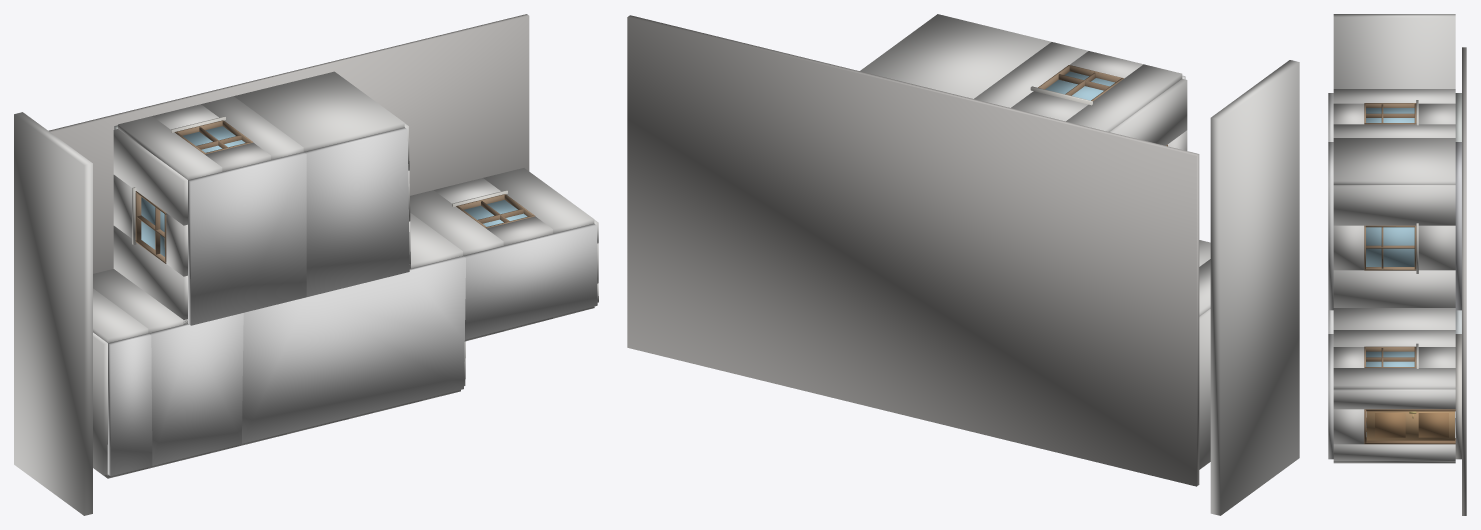
Rendered from blueprint3_scene.glb.
3 renders of one model, left to right at view 1: azimuth 30°, elevation 25°; view 2: azimuth 150°, elevation 25°; view 3: azimuth 270°, elevation 25°, orthographic. The views are drawn at different scales.
Parts seen in each view (by area): view 1: Ceilings, Walls, Plinth, Lintels, WindowGlasses, WindowFrames, WindowMullions, WindowSills; view 2: Plinth, Walls, Lintels, WindowGlasses; view 3: Walls, Lintels, WindowGlasses, DoorLeaves, Floors, Plinth, Ceilings, WindowFrames, WindowMullions, DoorFrames, WindowSills.
Boxes of the visible parts, left/top/right/bottom form: Ceilings: left=107, top=127, right=597, bottom=476; Walls: left=14, top=71, right=598, bottom=515; Plinth: left=48, top=14, right=529, bottom=273; Lintels: left=166, top=142, right=598, bottom=461; WindowGlasses: left=141, top=126, right=527, bottom=256; WindowFrames: left=135, top=120, right=534, bottom=263; WindowMullions: left=137, top=127, right=523, bottom=254; WindowSills: left=132, top=116, right=507, bottom=245; Plinth: left=627, top=15, right=1199, bottom=486; Walls: left=860, top=14, right=1299, bottom=515; Lintels: left=1070, top=51, right=1187, bottom=150; WindowGlasses: left=1045, top=71, right=1114, bottom=100; Walls: left=1333, top=14, right=1455, bottom=463; Lintels: left=1333, top=103, right=1364, bottom=444; WindowGlasses: left=1366, top=108, right=1414, bottom=436; DoorLeaves: left=1366, top=411, right=1454, bottom=440; Floors: left=1455, top=93, right=1461, bottom=459; Plinth: left=1462, top=47, right=1466, bottom=515; Ceilings: left=1328, top=93, right=1333, bottom=459; WindowFrames: left=1364, top=103, right=1416, bottom=437; WindowMullions: left=1366, top=104, right=1414, bottom=431; DoorFrames: left=1364, top=409, right=1455, bottom=444; WindowSills: left=1416, top=100, right=1418, bottom=368.
Bounding box in the file's own units: 11.98 × 7.73 × 3.17.
